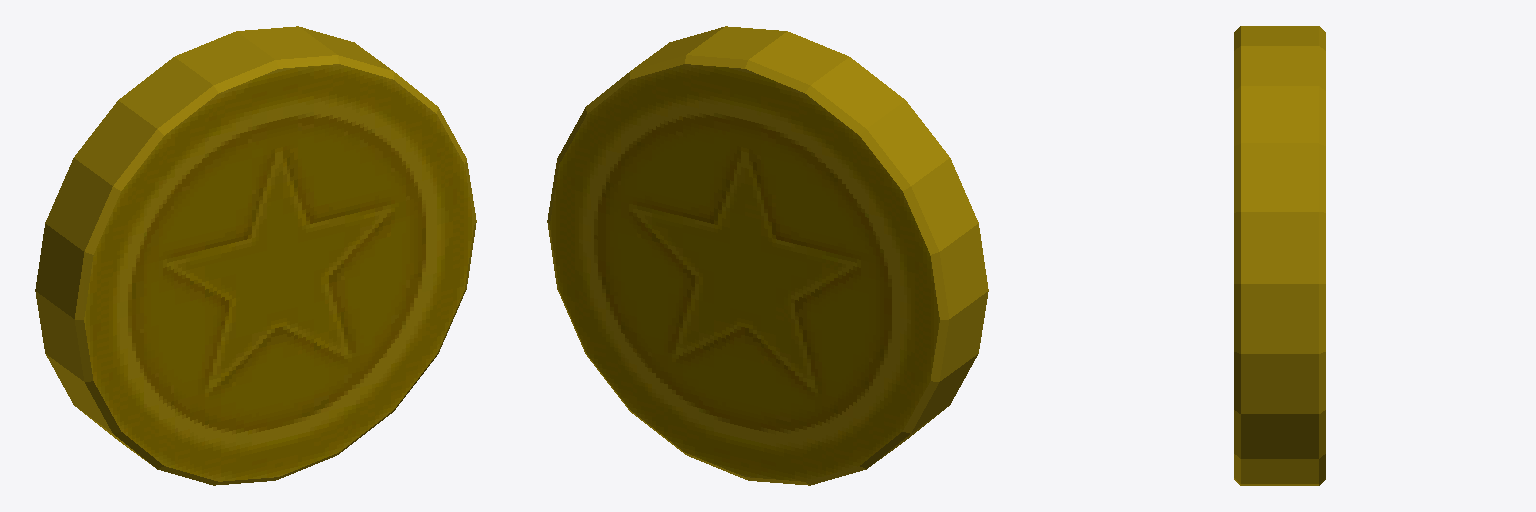
3 renders of one model, left to right at view 1: azimuth 30°, elevation 25°; view 2: azimuth 150°, elevation 25°; view 3: azimuth 270°, elevation 25°, orthographic.
Visible parts, largest first — view 1: default; view 2: default; view 3: default.
Boxes of the visible parts, <box> form: default: <box>35,26,476,485</box>; default: <box>547,26,988,485</box>; default: <box>1234,26,1325,485</box>.
Size of the model in its own units: 0.4732 by 0.4732 by 0.0942.
1 materials, 1 textured.